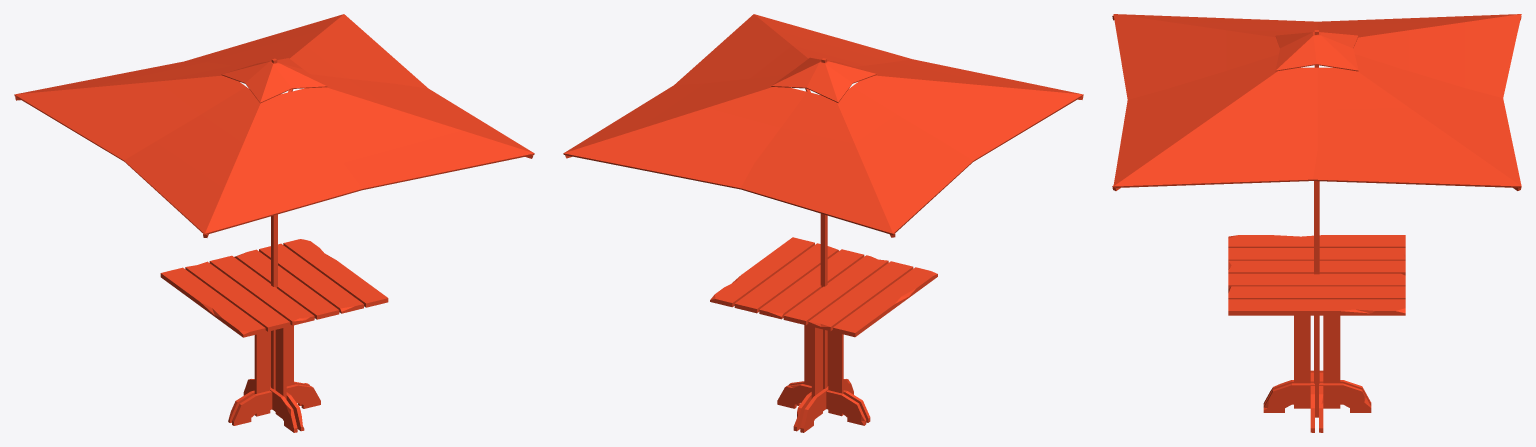
File: SM_Umbrella_Table_City.fbx
3 renders of one model, left to right at view 1: azimuth 30°, elevation 25°; view 2: azimuth 150°, elevation 25°; view 3: azimuth 270°, elevation 25°, orthographic. The views are drawn at different scales.
Visible parts, largest first — view 1: SM_Umbrella_Table_City; view 2: SM_Umbrella_Table_City; view 3: SM_Umbrella_Table_City.
Part boxes in pixels (bbox=[...]): SM_Umbrella_Table_City: bbox=[14, 14, 534, 432]; SM_Umbrella_Table_City: bbox=[563, 14, 1083, 432]; SM_Umbrella_Table_City: bbox=[1112, 14, 1521, 432].
Bounding box in the file's own units: 2.17 × 2.22 × 2.17.
